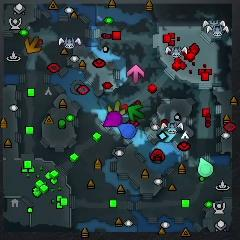p1: (117, 123, 137, 140)
p2: (198, 157, 214, 177)
p3: (103, 111, 123, 128)
x1: (127, 64, 145, 83)
x2: (106, 100, 125, 115)
x3: (161, 129, 177, 143)
x4: (128, 103, 145, 121)
x5: (25, 36, 42, 54)
